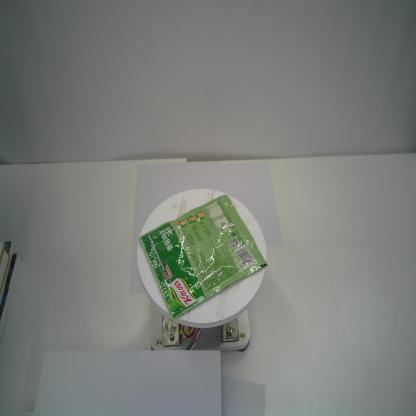Seasoner: (138, 195, 268, 320)
